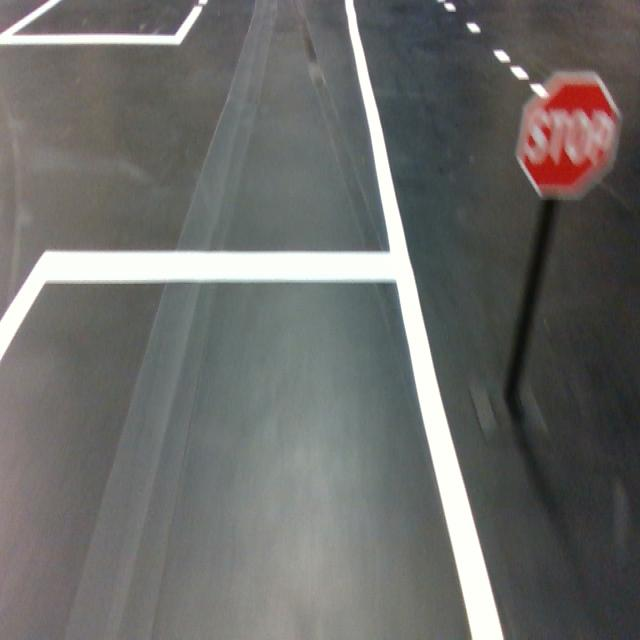stop-sign: (514, 71, 623, 203)
